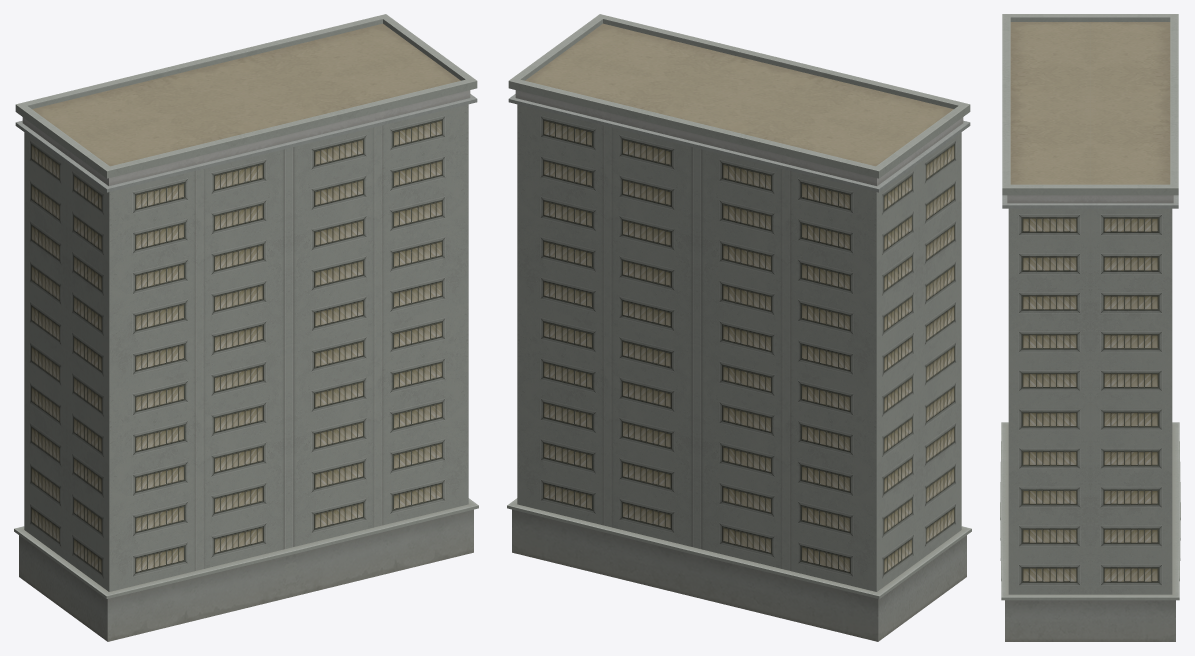
Rendered from Largebuilding_gy_20.FBX.
The picture shows the model from 3 angles, left to right: view 1: azimuth 30°, elevation 25°; view 2: azimuth 150°, elevation 25°; view 3: azimuth 270°, elevation 25°; orthographic projection. The views are drawn at different scales.
Parts seen in each view (by area): view 1: Largebuilding_gy_20; view 2: Largebuilding_gy_20; view 3: Largebuilding_gy_20.
Boxes of the visible parts, box(x1,y1,x2,y2) form: Largebuilding_gy_20: box(14, 14, 478, 641); Largebuilding_gy_20: box(507, 14, 971, 641); Largebuilding_gy_20: box(1000, 14, 1180, 641).
Size of the model in its own units: 41.26 by 49.99 by 18.02.
Materials: 1 (1 with a texture image).
